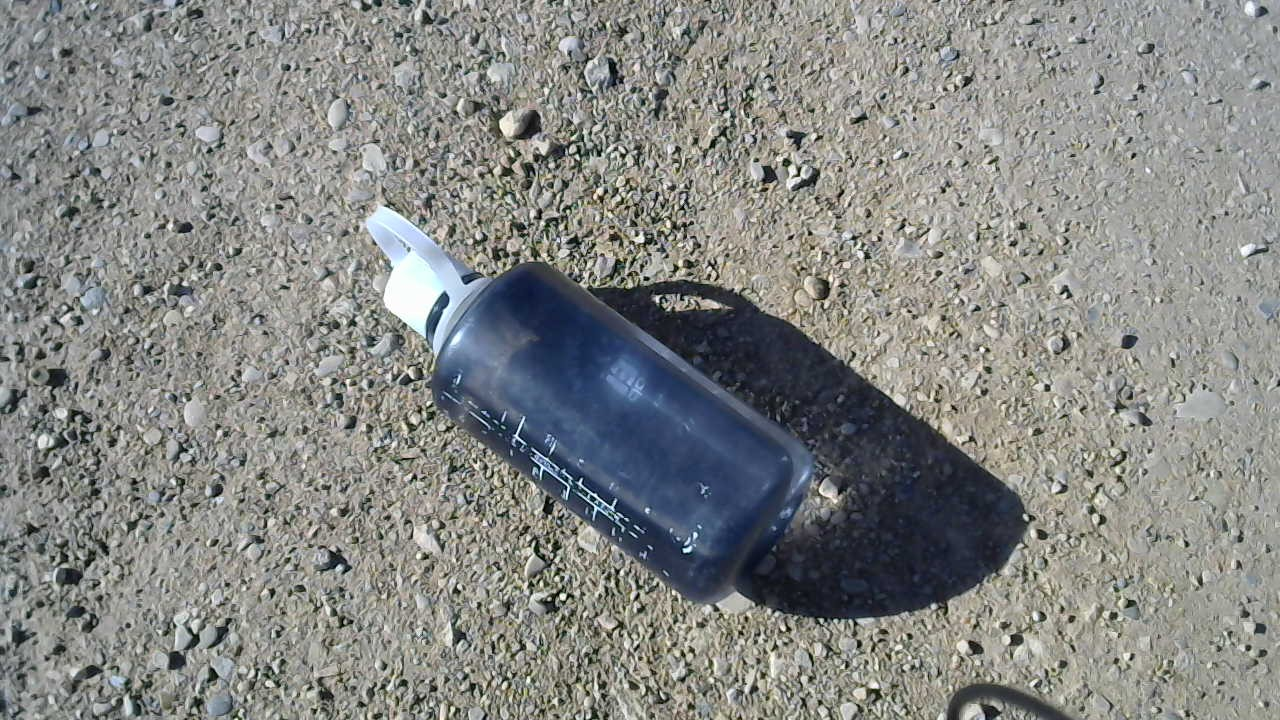bottle: (356, 201, 816, 611)
